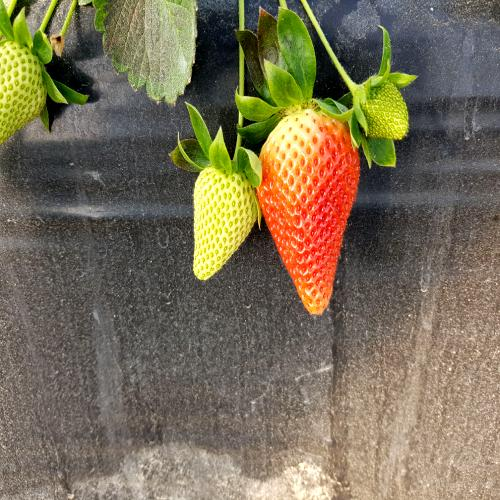partially-ripe: (259, 112, 364, 316)
